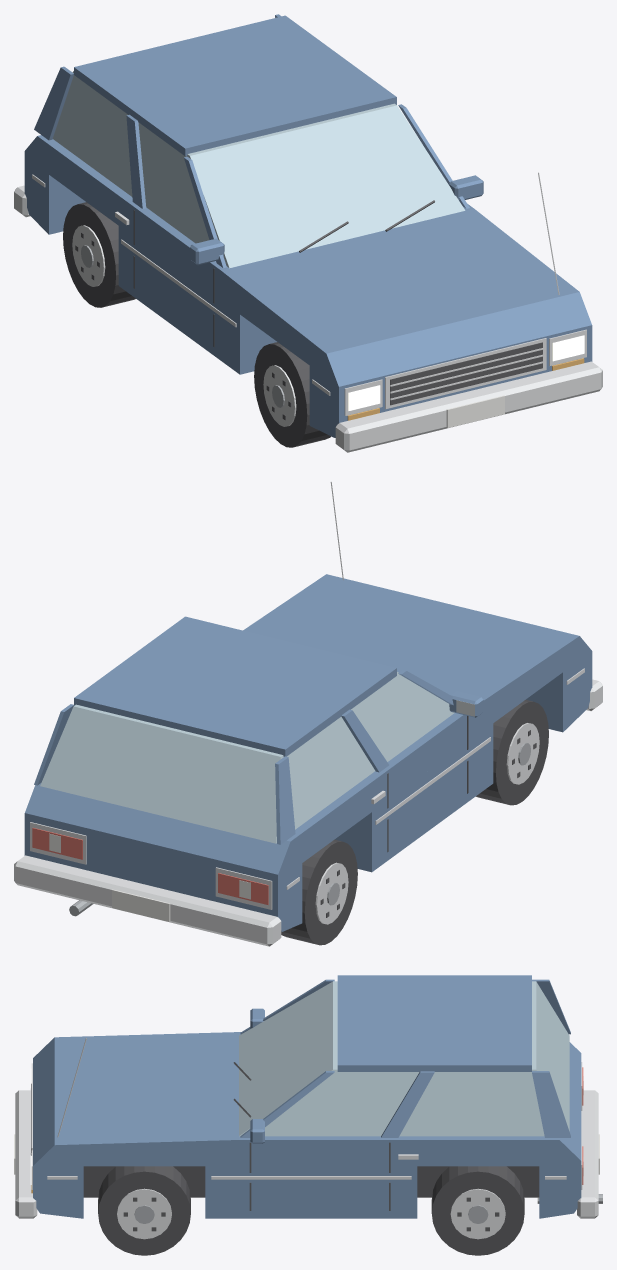
File: car_hatch_b.glb
3 views of the same model, one above another, from view 1: azimuth 30°, elevation 25°; view 2: azimuth 150°, elevation 25°; view 3: azimuth 270°, elevation 25° (orthographic). The views are drawn at different scales.
Visible parts, largest first — view 1: car_hatch_b_car_b, car_hatch_b_glass, car_hatch_b_chrome, car_hatch_b_rubber, car_hatch_b_dark, car_hatch_b_lamp_glass, car_hatch_b_paint_w; view 2: car_hatch_b_car_b, car_hatch_b_glass, car_hatch_b_chrome, car_hatch_b_rubber, car_hatch_b_neon_r, car_hatch_b_paint_w, car_hatch_b_steel; view 3: car_hatch_b_car_b, car_hatch_b_glass, car_hatch_b_rubber, car_hatch_b_chrome, car_hatch_b_dark, car_hatch_b_steel.
Part boxes in pixels (bbox=[...]): car_hatch_b_car_b: bbox=[24, 14, 592, 437]; car_hatch_b_glass: bbox=[53, 71, 465, 268]; car_hatch_b_chrome: bbox=[14, 172, 602, 452]; car_hatch_b_rubber: bbox=[63, 202, 330, 447]; car_hatch_b_dark: bbox=[75, 200, 542, 420]; car_hatch_b_lamp_glass: bbox=[348, 335, 584, 410]; car_hatch_b_paint_w: bbox=[446, 395, 504, 427]; car_hatch_b_car_b: bbox=[24, 574, 592, 931]; car_hatch_b_glass: bbox=[40, 672, 454, 843]; car_hatch_b_chrome: bbox=[14, 481, 602, 946]; car_hatch_b_rubber: bbox=[281, 699, 548, 945]; car_hatch_b_neon_r: bbox=[32, 828, 268, 904]; car_hatch_b_paint_w: bbox=[49, 833, 250, 921]; car_hatch_b_steel: bbox=[69, 742, 530, 916]; car_hatch_b_car_b: bbox=[33, 975, 581, 1218]; car_hatch_b_glass: bbox=[239, 981, 569, 1136]; car_hatch_b_rubber: bbox=[83, 1166, 539, 1255]; car_hatch_b_chrome: bbox=[15, 1038, 598, 1239]; car_hatch_b_dark: bbox=[31, 1062, 499, 1231]; car_hatch_b_steel: bbox=[134, 1194, 602, 1223].
Bounding box in the file's own units: 2 × 1.6 × 4.06.
